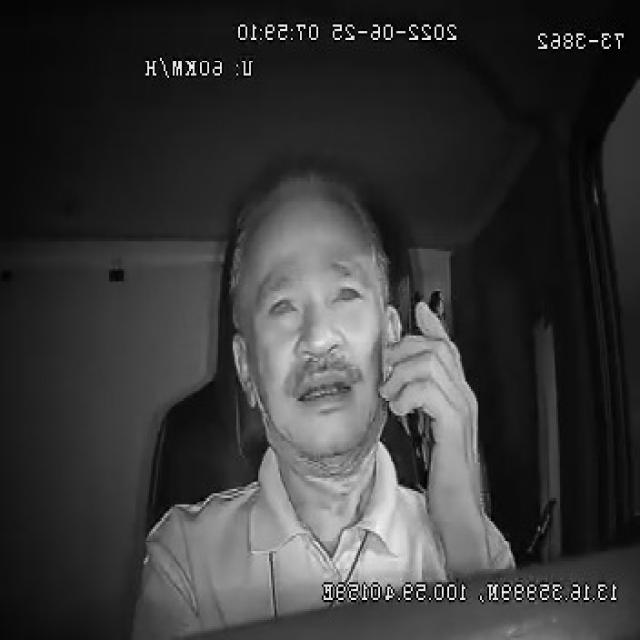phone: (402, 282, 454, 500)
